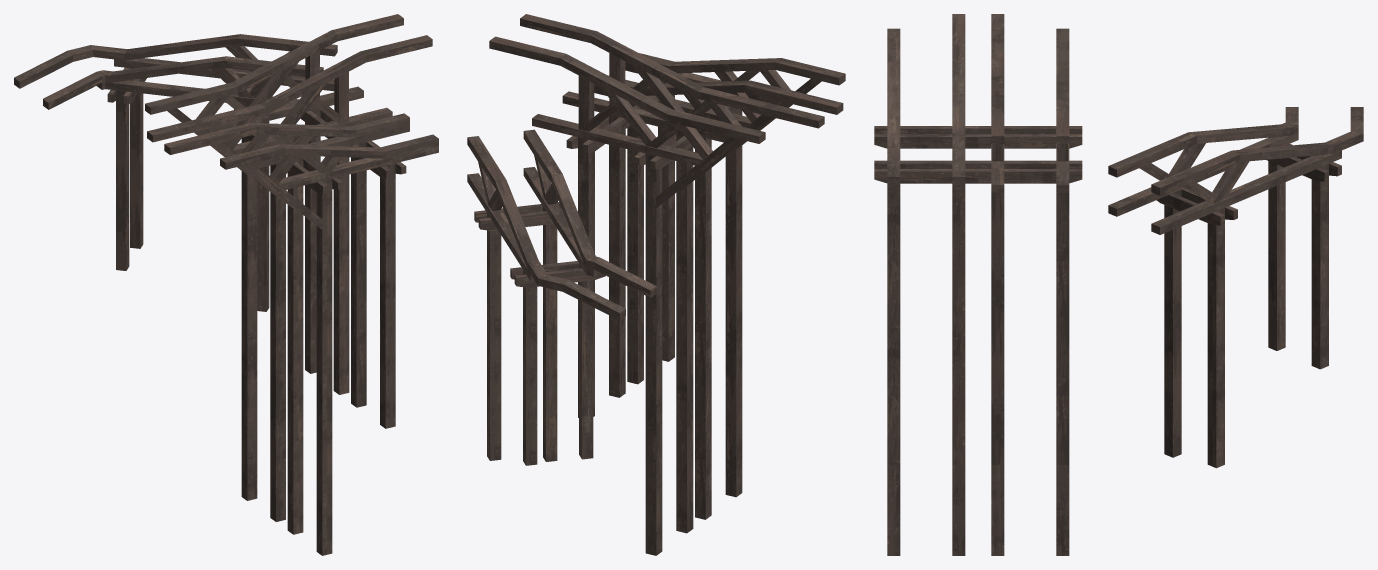
3 renders of one model, left to right at view 1: azimuth 30°, elevation 25°; view 2: azimuth 150°, elevation 25°; view 3: azimuth 270°, elevation 25°, orthographic. The views are drawn at different scales.
Visible parts, largest first — view 1: body0_model0_lod0_mesh0; view 2: body0_model0_lod0_mesh0; view 3: body0_model0_lod0_mesh0.
Part boxes in pixels (box(x1,y1,x2,y2)): body0_model0_lod0_mesh0: box(14, 14, 438, 555); body0_model0_lod0_mesh0: box(467, 14, 845, 555); body0_model0_lod0_mesh0: box(874, 14, 1363, 555).
Size of the model in its own units: 672 by 1020 by 904.
Materials: 1 (1 with a texture image).
